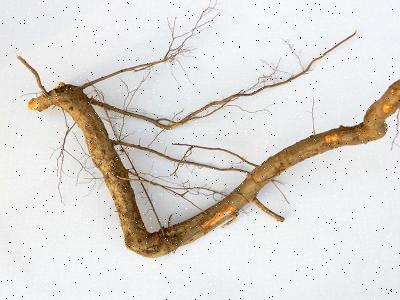Root: (28, 79, 399, 257)
